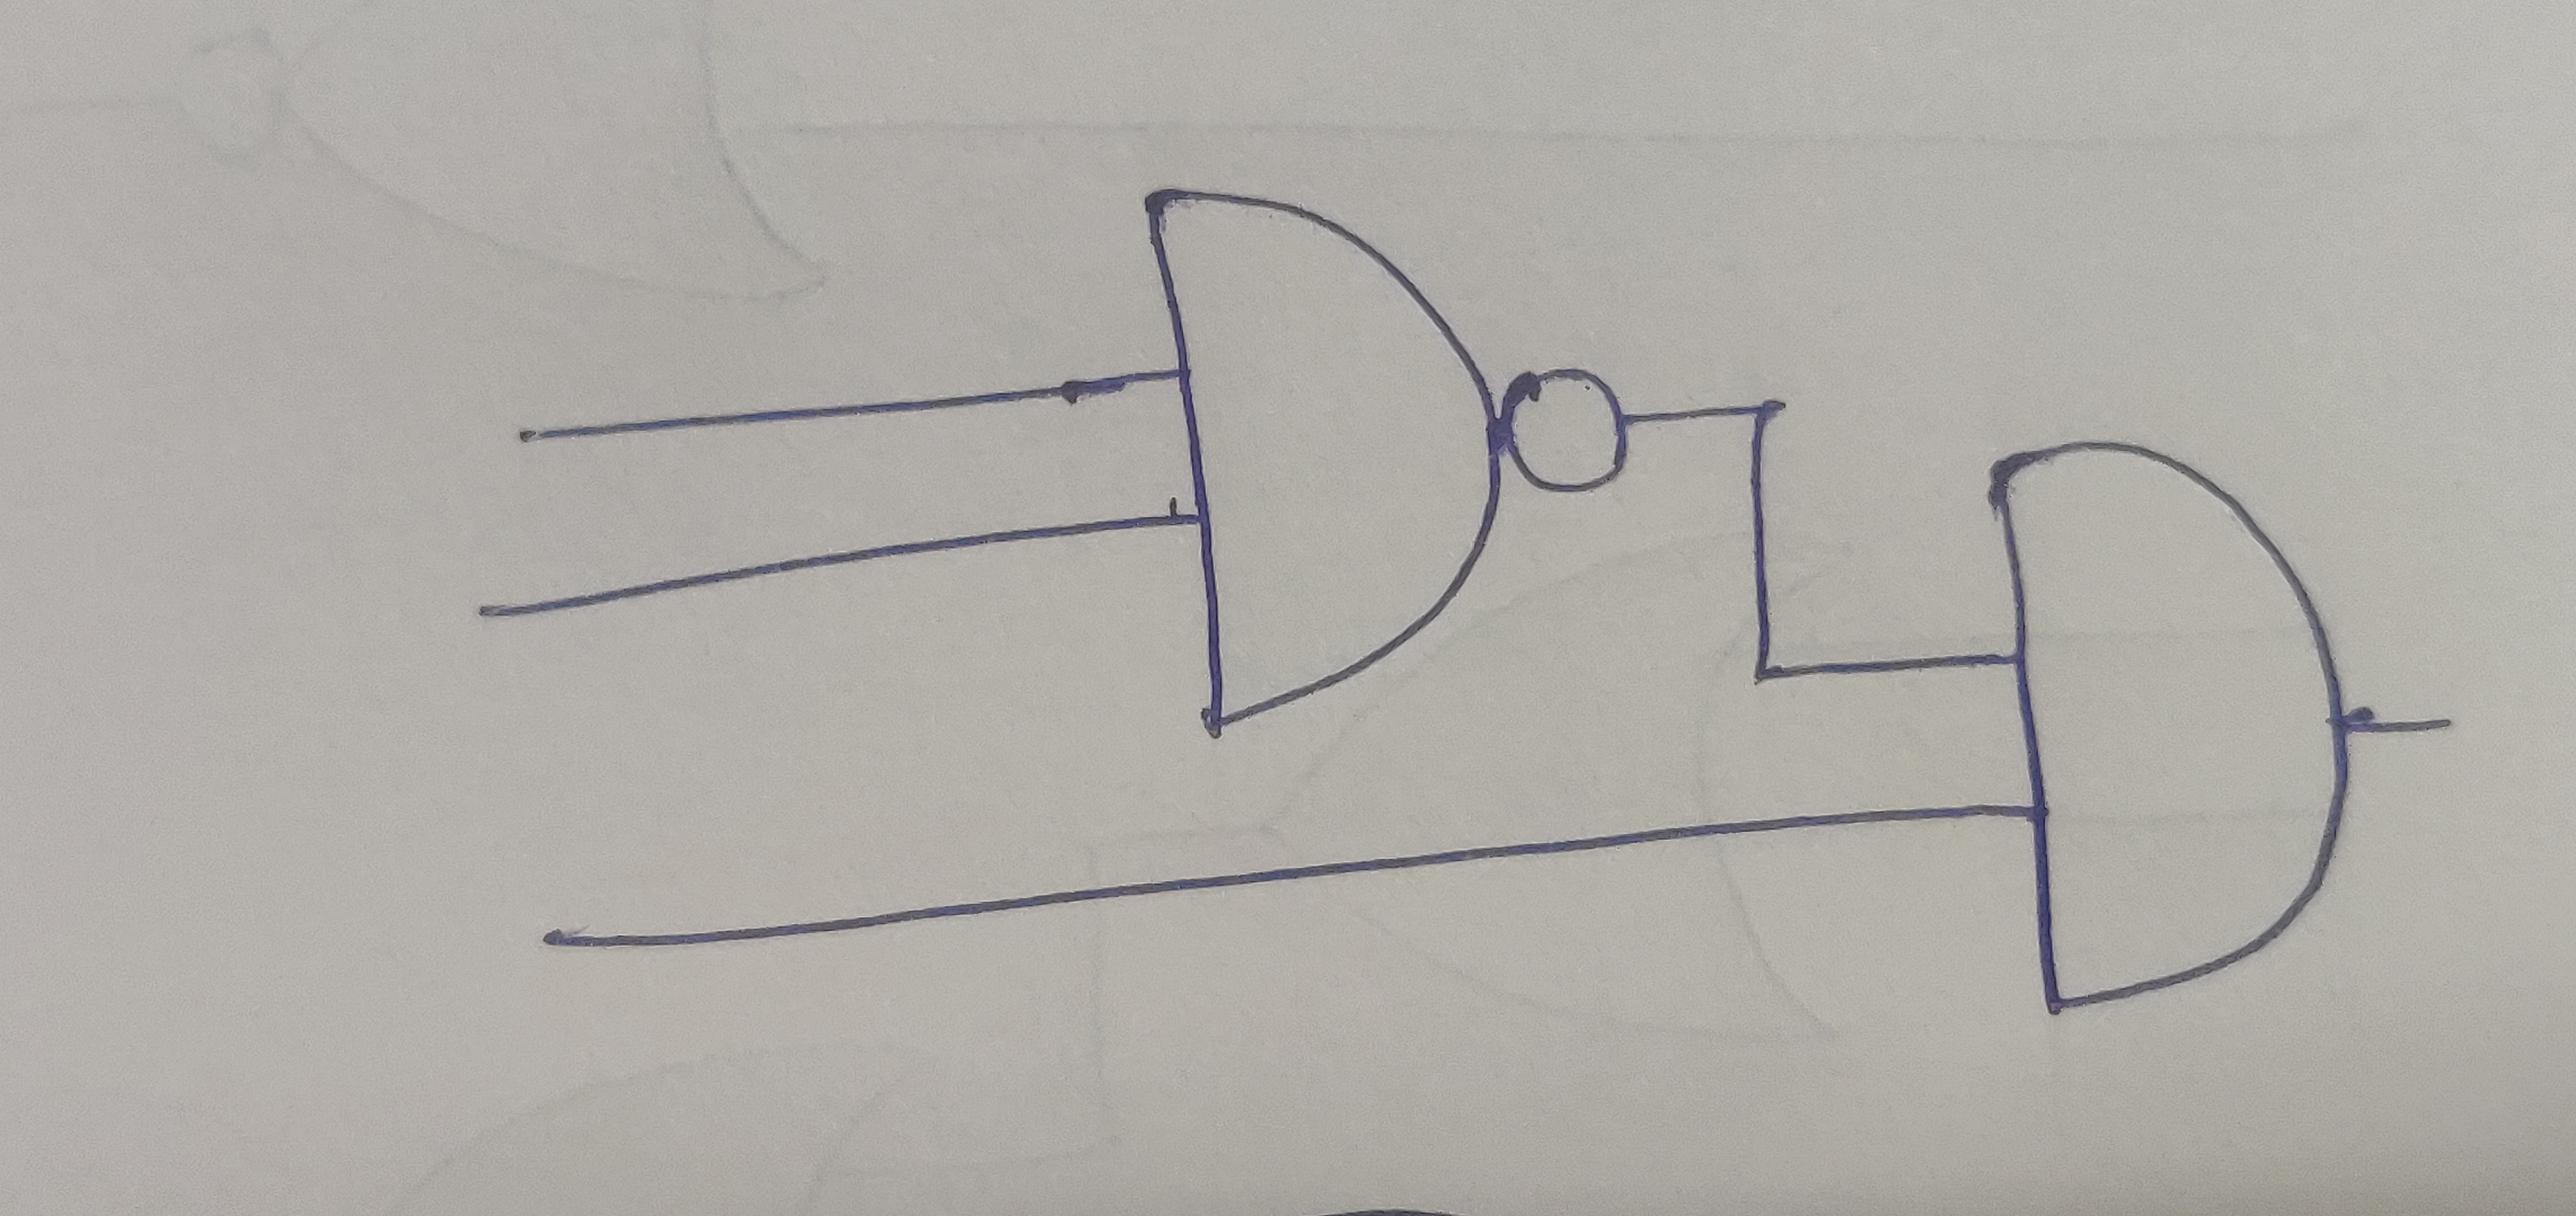and: (1137, 181, 1515, 733), (1988, 437, 2353, 1009)
not: (1498, 358, 1643, 500)
